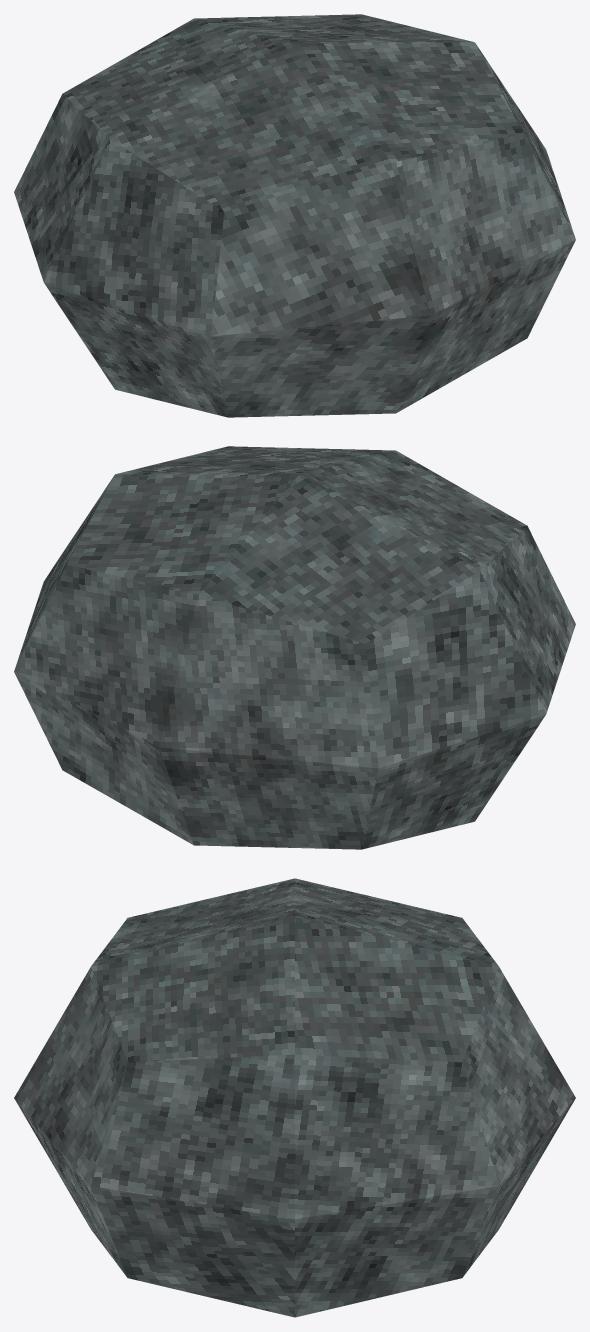
The model's file is rock_04.glb.
3 views of the same model, one above another, from view 1: azimuth 30°, elevation 25°; view 2: azimuth 150°, elevation 25°; view 3: azimuth 270°, elevation 25° (orthographic). The views are drawn at different scales.
Visible parts, largest first — view 1: ROCK_04; view 2: ROCK_04; view 3: ROCK_04.
Part boxes in pixels (x1,y1,x2,y2): ROCK_04: (14, 14, 575, 417); ROCK_04: (14, 446, 575, 849); ROCK_04: (14, 878, 575, 1317).
Size of the model in its own units: 2.91 by 1.92 by 2.72.
1 material, 1 textured.
